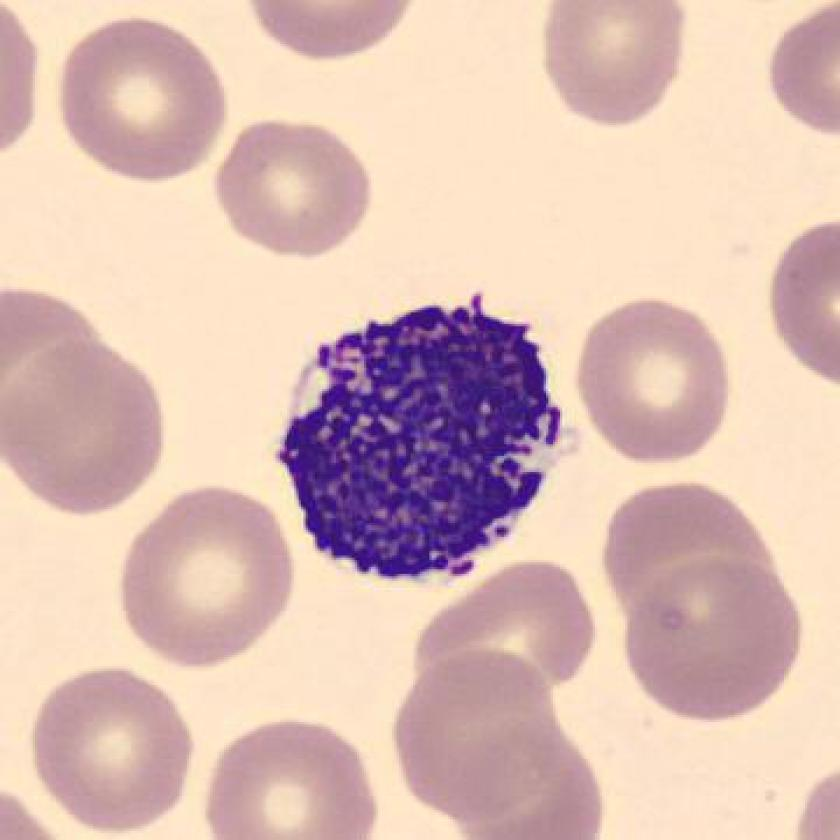basophil: (274, 290, 566, 589)
